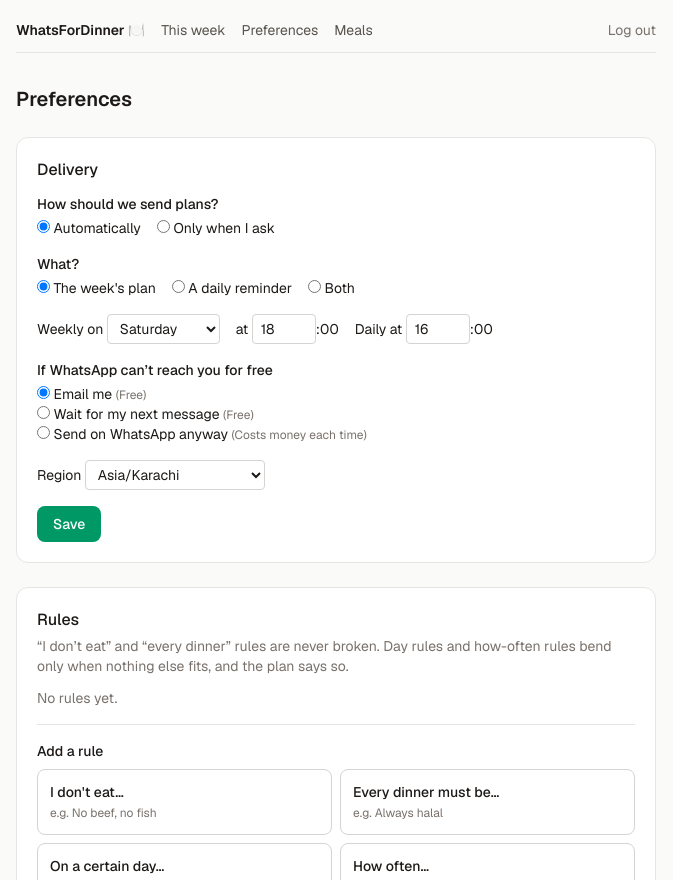
Test: preferences › asks for the kind of rule before offering anything to pick
What coordinates should you click on to do the following:
click the radio button labelled "I don't eat… e.g. No beef, no fish"
I would click on:
 (87, 792)
Its box is 37,769 -> 332,835.
(page scrolled)
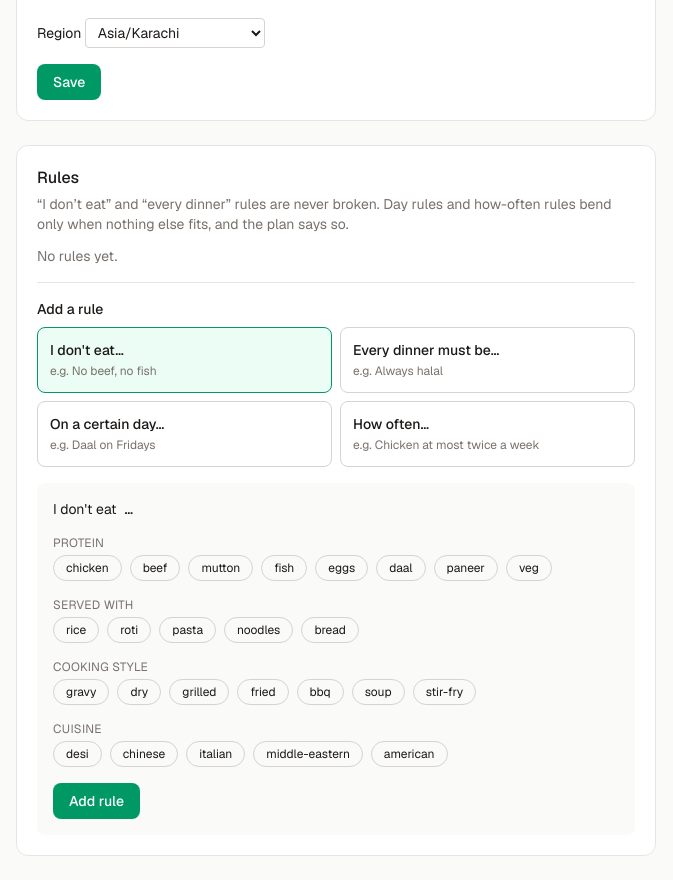
Expected: the button "Add rule" is shown, 53,783 -> 140,819
